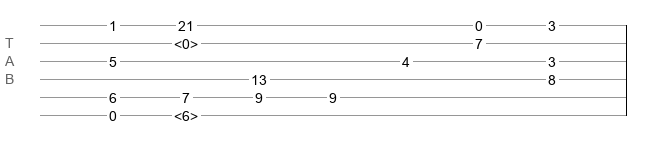0: (109, 108, 117, 118), (475, 18, 483, 28)
1: (109, 18, 117, 28)
13: (251, 72, 267, 82)
21: (178, 18, 194, 28)
3: (548, 54, 556, 64), (548, 18, 556, 28)
4: (402, 54, 410, 64)
5: (109, 54, 117, 64)
6: (109, 90, 117, 100)
7: (182, 90, 190, 100), (475, 36, 483, 46)
8: (548, 72, 556, 82)
9: (255, 90, 263, 100), (329, 90, 337, 100)
harmonic: (174, 108, 198, 118), (174, 36, 198, 46)
